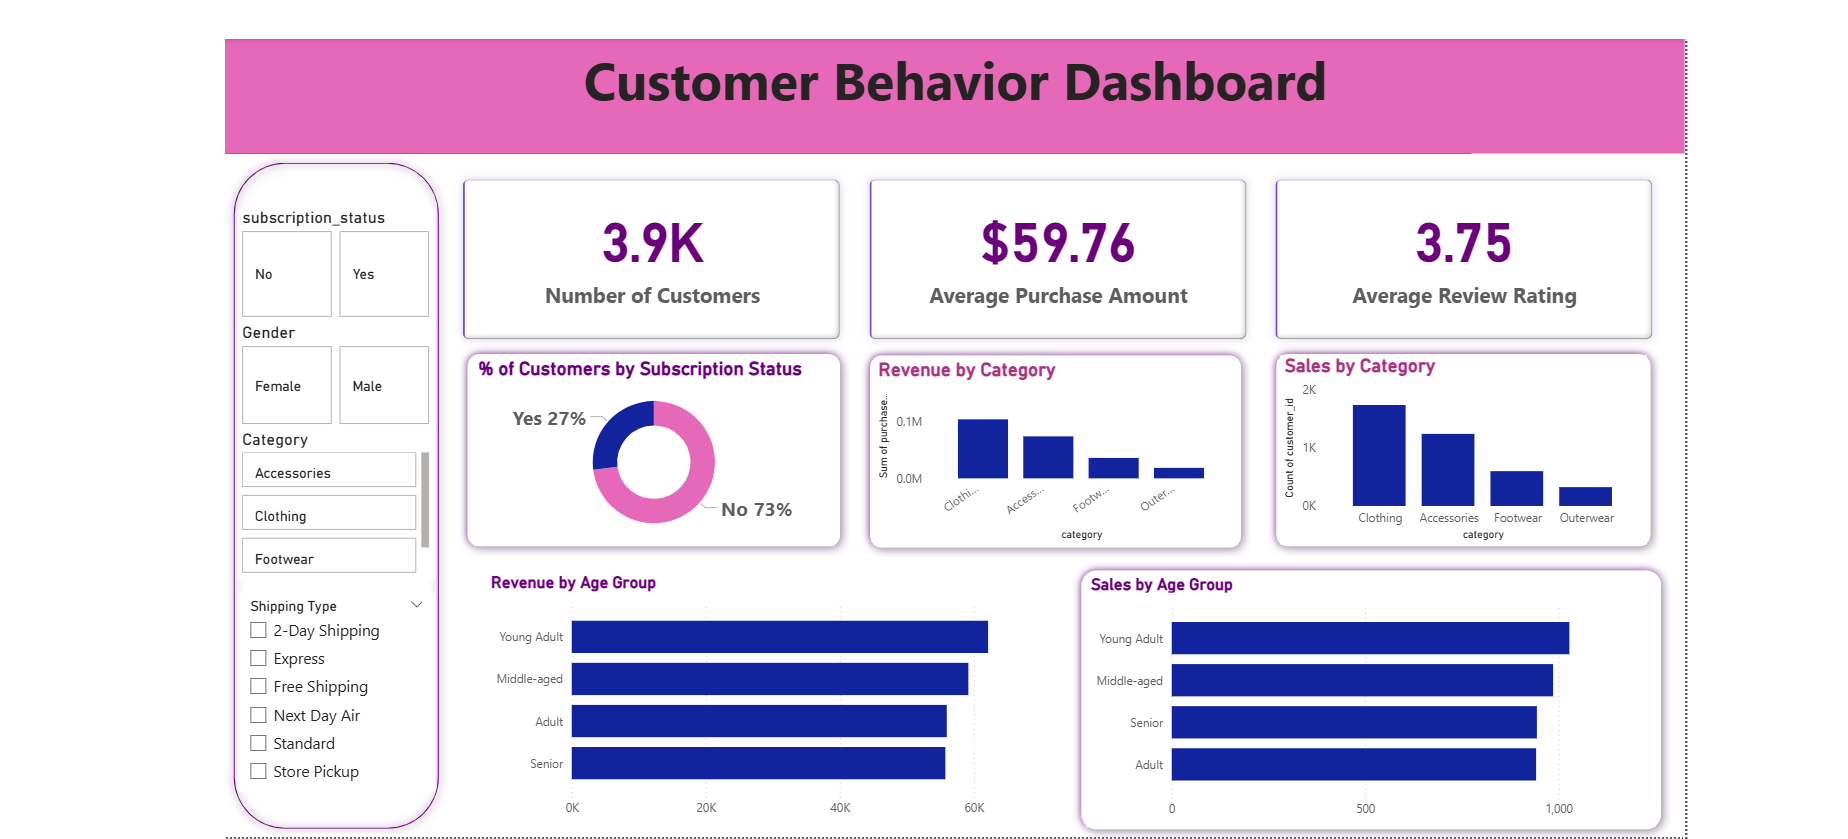

What the dashboard file says about the page in this screenshot:
{"tool":"powerbi","page":{"name":"Page 1","canvas":[1500,820],"ordinal":0},"visuals":[{"type":"cardVisual","fields":{"Data":["public customer.Number of Customers","public customer.Average Purchase Amount","public customer.Average Review Rating"]},"box":[228.6,128.8,1255.6,196.4],"z":0},{"type":"shape","box":[0,0,1280.3,118],"z":1000},{"type":"textbox","box":[0,0,1500.3,117.5],"z":2000},{"type":"shape","box":[239.9,313.9,400.8,215.7],"z":3000},{"type":"donutChart","title":"% of Customers by Subscription Status","fields":{"Category":["public customer.subscription_status"],"Y":["CountNonNull(public customer.customer_id)"]},"box":[256,326.8,370.3,193.2],"z":4000},{"type":"shape","box":[653.6,315.5,399.2,215.7],"z":5000},{"type":"shape","box":[1070.5,313.9,402.4,215.7],"z":6000},{"type":"clusteredColumnChart","title":"Revenue by Category","fields":{"Y":["Sum(public customer.purchase_amount_(usd))"],"Category":["public customer.category"]},"box":[666.5,328.4,373.5,191.6],"z":7000},{"type":"clusteredColumnChart","title":"Sales by Category","fields":{"Y":["CountNonNull(public customer.customer_id)"],"Category":["public customer.category"]},"box":[1083.4,325.2,376.7,194.8],"z":8000},{"type":"shape","box":[0,117.5,228.6,701.9],"z":9000},{"type":"advancedSlicerVisual","fields":{"Values":["public customer.subscription_status"]},"box":[12.9,173.9,202.8,117.5],"z":10000},{"type":"advancedSlicerVisual","fields":{"Values":["public customer.gender"]},"box":[12.9,291.4,202.8,109.5],"z":11000},{"type":"advancedSlicerVisual","fields":{"Values":["public customer.category"]},"box":[12.9,400.8,202.8,154.5],"z":12000},{"type":"slicer","fields":{"Values":["public customer.shipping_type"]},"box":[12.9,568.3,202.8,204.4],"z":12001},{"type":"clusteredBarChart","title":"Revenue by Age Group","fields":{"Y":["Sum(public customer.purchase_amount_(usd))"],"Category":["public customer.age_group"]},"box":[256.8,544.3,584.6,260],"z":12002},{"type":"shape","box":[870.5,536.2,613.7,284.2],"z":12003},{"type":"shape","box":[242.2,531.3,613.7,285.9],"z":12004},{"type":"clusteredBarChart","title":"Sales by Age Group","fields":{"Category":["public customer.age_group"],"Y":["CountNonNull(public customer.customer_id)"]},"box":[885,549.1,584.6,260],"z":12005}]}

Visuals, with their boxes on the page's 1500x820 design canvas (x1, y1, x2, y2). These are canvas units, not pixel positions in the 1848x839 screenshot, which may show the page scaled, cropped or inside an application window:
cardVisual - public customer.Number of Customers x public customer.Average Purchase Amount: left=229, top=129, right=1484, bottom=325
shape: left=0, top=0, right=1280, bottom=118
textbox: left=0, top=0, right=1500, bottom=118
shape: left=240, top=314, right=641, bottom=530
"% of Customers by Subscription Status" donutChart: left=256, top=327, right=626, bottom=520
shape: left=654, top=316, right=1053, bottom=531
shape: left=1070, top=314, right=1473, bottom=530
"Revenue by Category" clusteredColumnChart: left=666, top=328, right=1040, bottom=520
"Sales by Category" clusteredColumnChart: left=1083, top=325, right=1460, bottom=520
shape: left=0, top=118, right=229, bottom=819
advancedSlicerVisual - public customer.subscription_status: left=13, top=174, right=216, bottom=291
advancedSlicerVisual - public customer.gender: left=13, top=291, right=216, bottom=401
advancedSlicerVisual - public customer.category: left=13, top=401, right=216, bottom=555
slicer - public customer.shipping_type: left=13, top=568, right=216, bottom=773
"Revenue by Age Group" clusteredBarChart: left=257, top=544, right=841, bottom=804
shape: left=870, top=536, right=1484, bottom=820
shape: left=242, top=531, right=856, bottom=817
"Sales by Age Group" clusteredBarChart: left=885, top=549, right=1470, bottom=809
